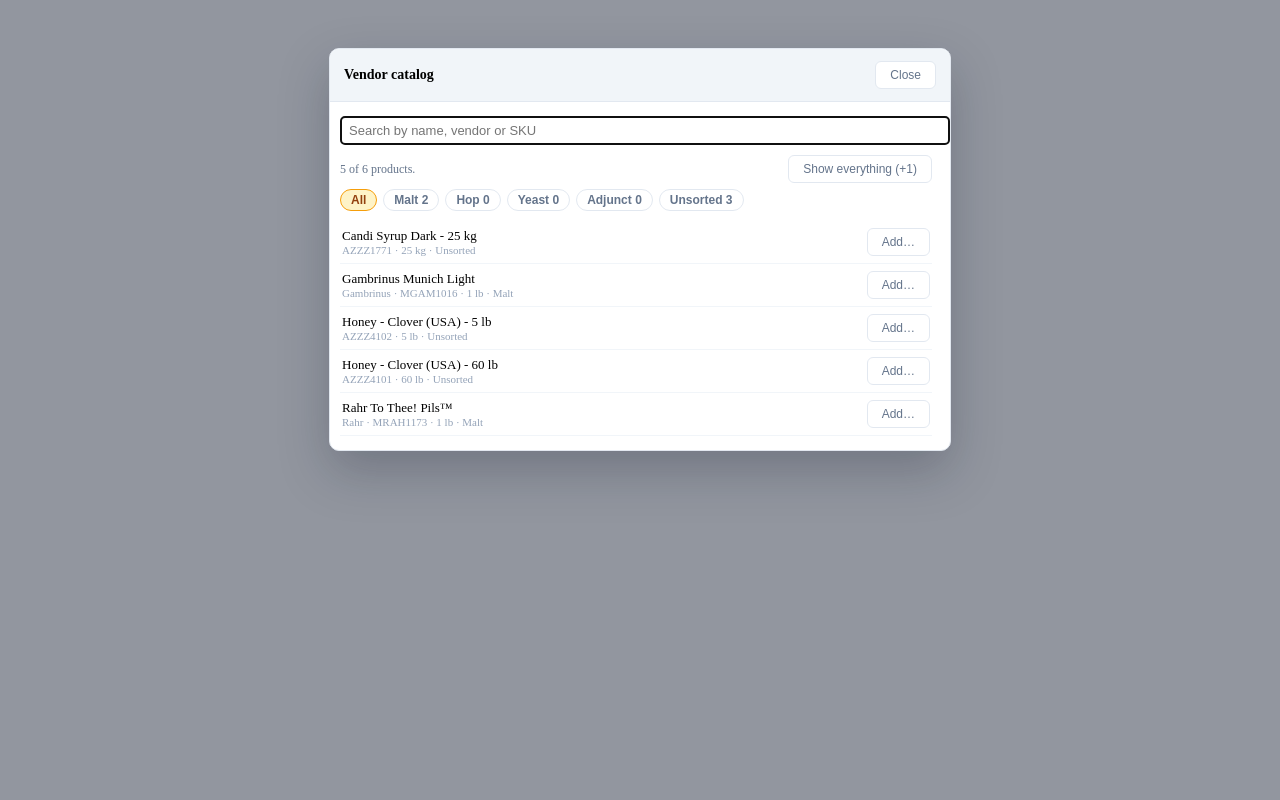
Test: CatalogBrowser › keeps equipment and merchandise behind the toggle
Type "boots" into the field named "Search the catalog" at (645, 130), box [340,116,950,145]
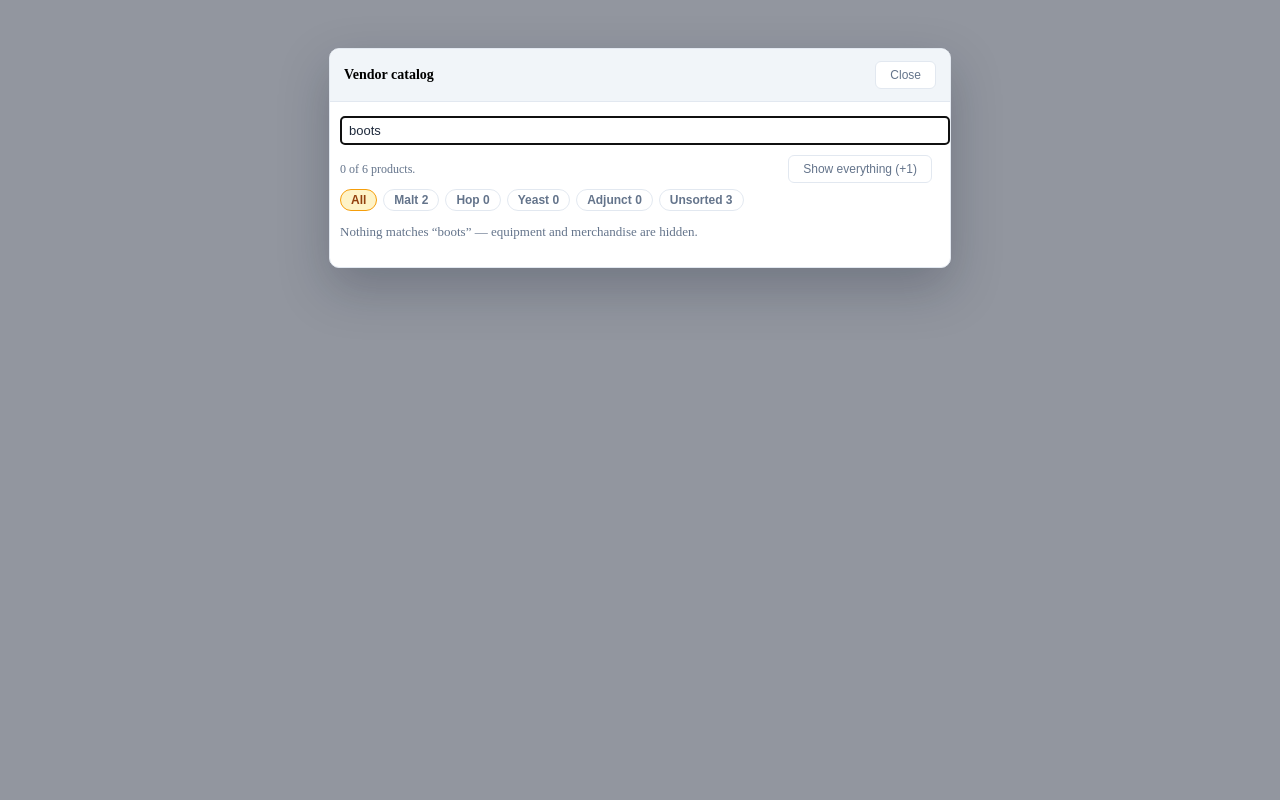
Expected: the text "Xtratuf Boots" is not shown
Click the button "Show everything (+1)" at (860, 169), box [788,155,932,183]
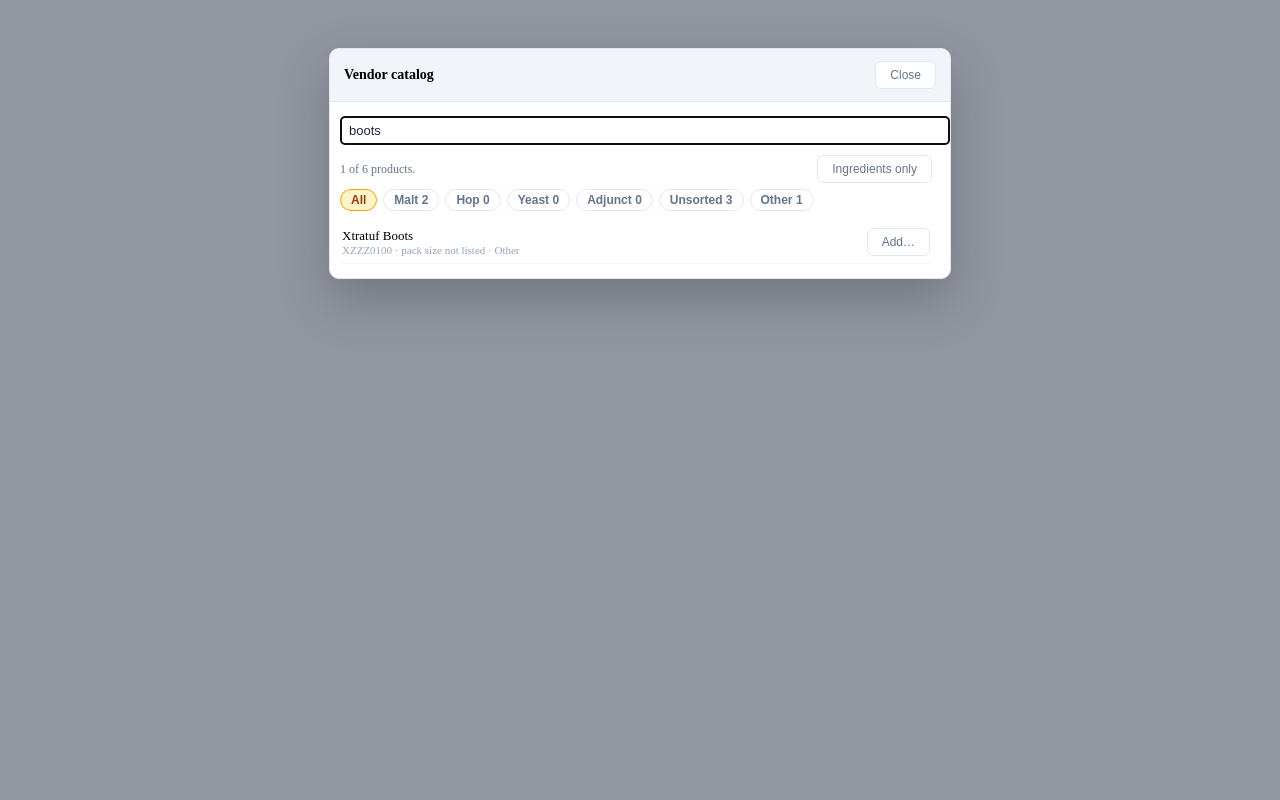
Result: the text "Xtratuf Boots" is shown at [342,228,413,243]
